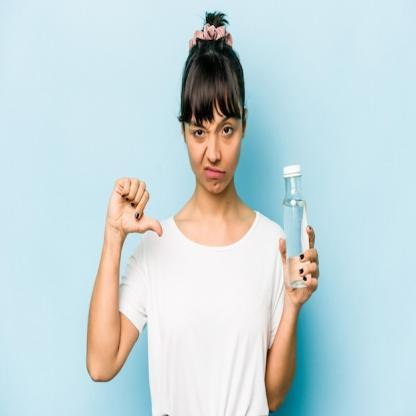thumb_down: (103, 172, 165, 242)
